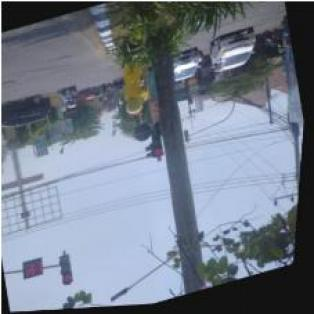Semaforo Rojo: (58, 253, 80, 288), (149, 129, 166, 159)
